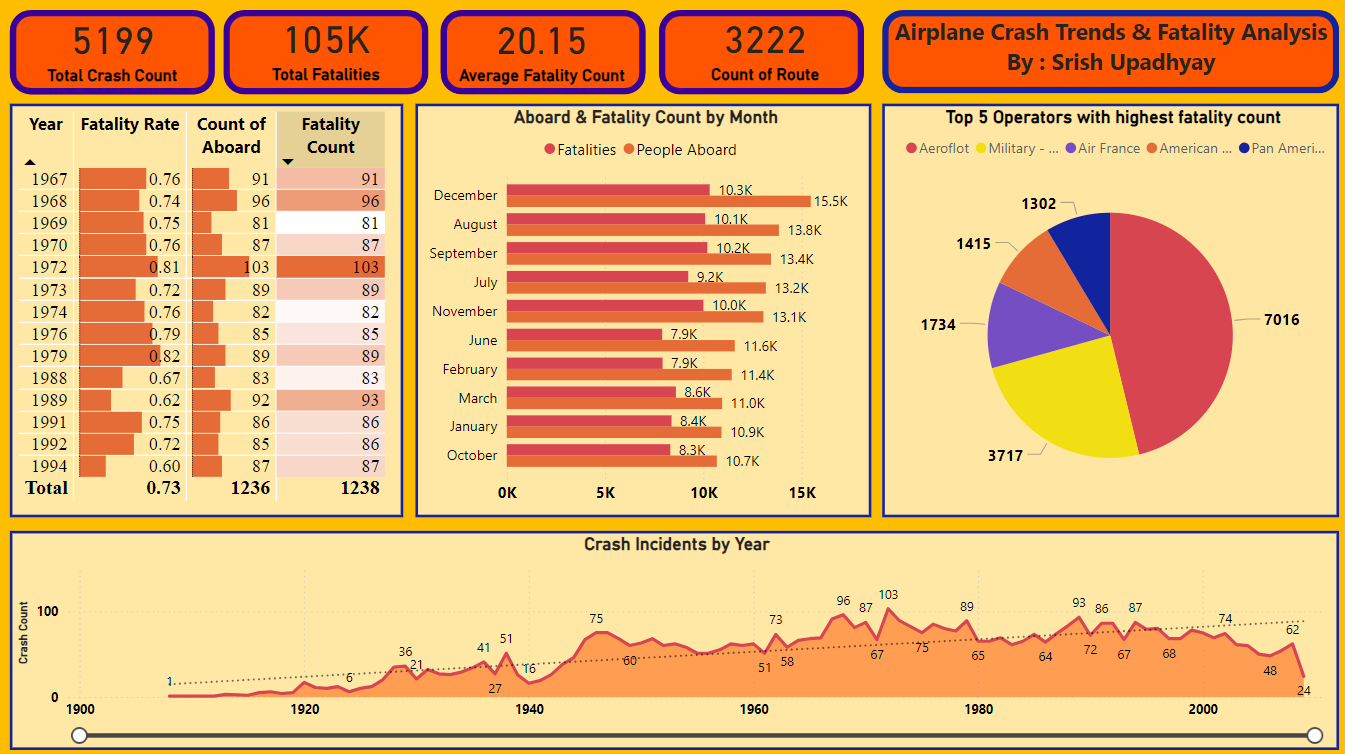

This screenshot's page, from the dashboard's own definition file:
{"tool":"powerbi","page":{"name":"Crash & Fatality Trends","canvas":[1280,720],"ordinal":0},"visuals":[{"type":"shape","box":[10.3,11.4,194.1,79.9],"z":0},{"type":"areaChart","title":"Crash Incidents by Year","fields":{"Y":["CountNonNull(Airplane_Crashes_and_Fatalities.index)"],"Category":["Airplane_Crashes_and_Fatalities.Date Hierarchy.Year"]},"box":[10.3,504.6,1258,207.8],"z":1000},{"type":"tableEx","fields":{"Values":["Airplane_Crashes_and_Fatalities.Date Hierarchy.Year","Airplane_Crashes_and_Fatalities.Fatality Rate","CountNonNull(Airplane_Crashes_and_Fatalities.Aboard)","CountNonNull(Airplane_Crashes_and_Fatalities.index)"]},"box":[10.3,100.5,372.2,391.6],"z":2000},{"type":"clusteredBarChart","title":"Aboard & Fatality Count by Month","fields":{"Category":["Airplane_Crashes_and_Fatalities.Date Hierarchy.Month"],"Y":["Sum(Airplane_Crashes_and_Fatalities.Fatalities)","Sum(Airplane_Crashes_and_Fatalities.Aboard)"]},"box":[393.8,100.5,431.5,391.6],"z":3000},{"type":"pieChart","title":"Top 5 Operators with highest fatality count","fields":{"Y":["Sum(Airplane_Crashes_and_Fatalities.Fatalities)"],"Category":["Airplane_Crashes_and_Fatalities.Operator"]},"box":[835.6,100.5,432.7,391.6],"z":4000},{"type":"shape","box":[212.3,11.4,194.1,79.9],"z":5000},{"type":"shape","box":[417.8,11.4,194.1,79.9],"z":6000},{"type":"shape","box":[624.4,11.4,194.1,79.9],"z":7000},{"type":"card","fields":{"Values":["CountNonNull(Airplane_Crashes_and_Fatalities.index)"]},"box":[10.3,0,194.1,91.3],"z":8000},{"type":"card","fields":{"Values":["Sum(Airplane_Crashes_and_Fatalities.Fatalities)"]},"box":[212.3,0,194.1,90.2],"z":9000},{"type":"card","fields":{"Values":["Avg(Airplane_Crashes_and_Fatalities.Fatalities)"]},"box":[417.8,0,191.8,91.3],"z":10000},{"type":"card","fields":{"Values":["Count(Airplane_Crashes_and_Fatalities.Route)"]},"box":[631.3,0,187.2,90.2],"z":11000},{"type":"shape","box":[835.6,11.4,432.7,78.8],"z":12000},{"type":"textbox","box":[835.6,11.4,432.7,78.8],"z":13000}]}

Visuals, with their boxes in screenshot pixels (x1, y1, x2, y2), scaled from the page's 1280x720 canvas onto the 1345x754 screenshot:
shape: left=11, top=12, right=215, bottom=96
"Crash Incidents by Year" areaChart: left=11, top=528, right=1333, bottom=746
tableEx - Airplane_Crashes_and_Fatalities.Date Hierarchy.Year x Airplane_Crashes_and_Fatalities.Fatality Rate: left=11, top=105, right=402, bottom=515
"Aboard & Fatality Count by Month" clusteredBarChart: left=414, top=105, right=867, bottom=515
"Top 5 Operators with highest fatality count" pieChart: left=878, top=105, right=1333, bottom=515
shape: left=223, top=12, right=427, bottom=96
shape: left=439, top=12, right=643, bottom=96
shape: left=656, top=12, right=860, bottom=96
card - CountNonNull(Airplane_Crashes_and_Fatalities.index): left=11, top=0, right=215, bottom=96
card - Sum(Airplane_Crashes_and_Fatalities.Fatalities): left=223, top=0, right=427, bottom=94
card - Avg(Airplane_Crashes_and_Fatalities.Fatalities): left=439, top=0, right=641, bottom=96
card - Count(Airplane_Crashes_and_Fatalities.Route): left=663, top=0, right=860, bottom=94
shape: left=878, top=12, right=1333, bottom=94
textbox: left=878, top=12, right=1333, bottom=94
